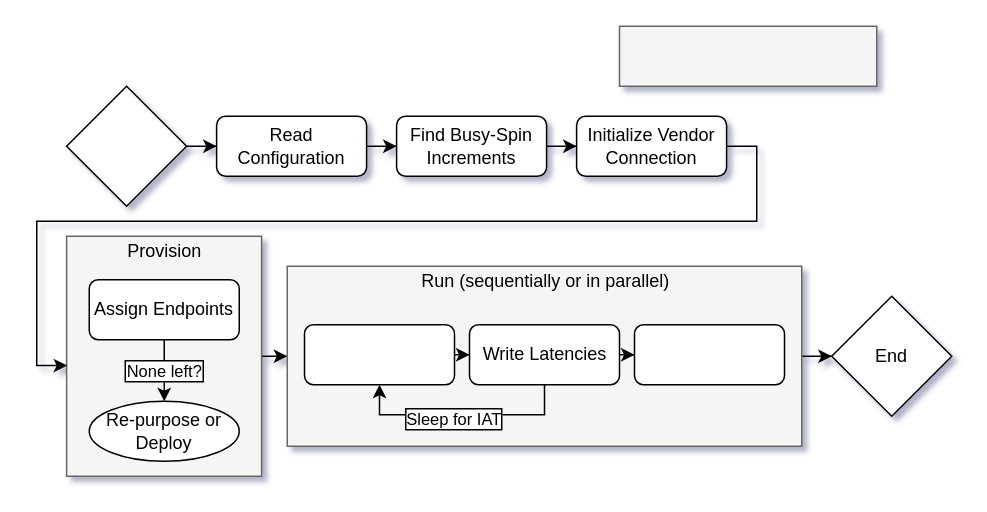
Some shapes in this 987 by 512 pixel diagram are drawn without their labels. The shapes that lost their labels are listed below. From the top down, each one's centre as x and y in pixels, then its label:
(747,55): FOREACH Sub-Experiment
(126,145): Start
(378,354): Send # Bursts (Parallelism)
(708,354): Generate Visualizations
